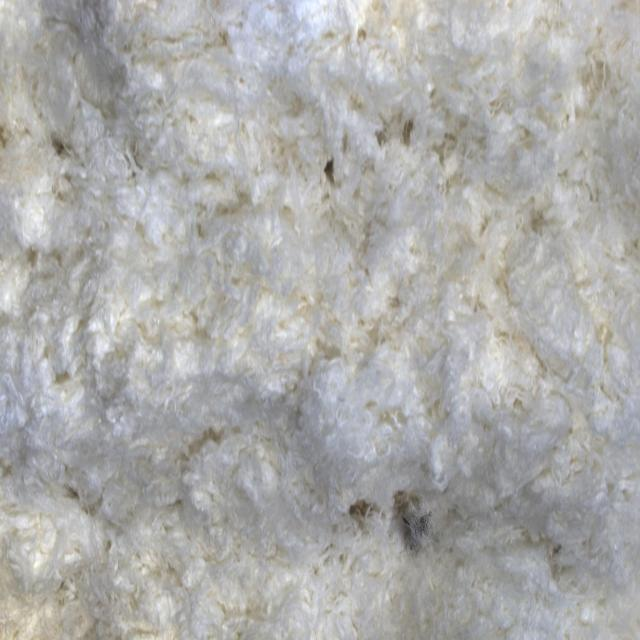dust: (360, 475, 454, 571)
